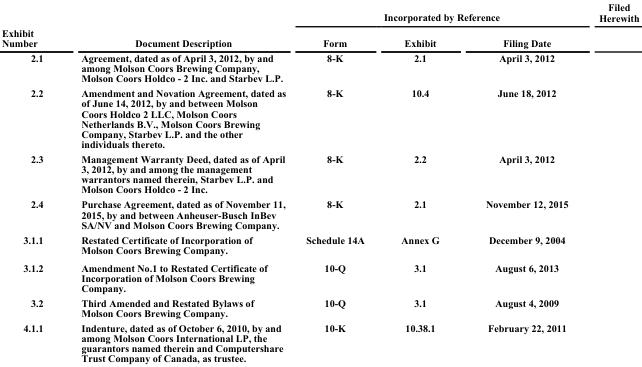table: (0, 1, 638, 363)
table column: (61, 1, 295, 363), (461, 1, 582, 363), (295, 1, 382, 363), (382, 1, 461, 363), (0, 1, 61, 363), (582, 1, 638, 363)
table column header: (0, 1, 638, 49)
table row: (0, 85, 638, 150), (0, 150, 638, 196), (0, 320, 638, 363), (0, 49, 638, 85), (0, 258, 638, 294), (0, 196, 638, 231), (0, 1, 638, 29), (0, 231, 638, 258), (0, 294, 638, 320), (0, 29, 638, 49)
table spanning cell: (61, 1, 295, 49), (295, 1, 582, 29), (0, 1, 61, 49), (582, 1, 638, 49)
